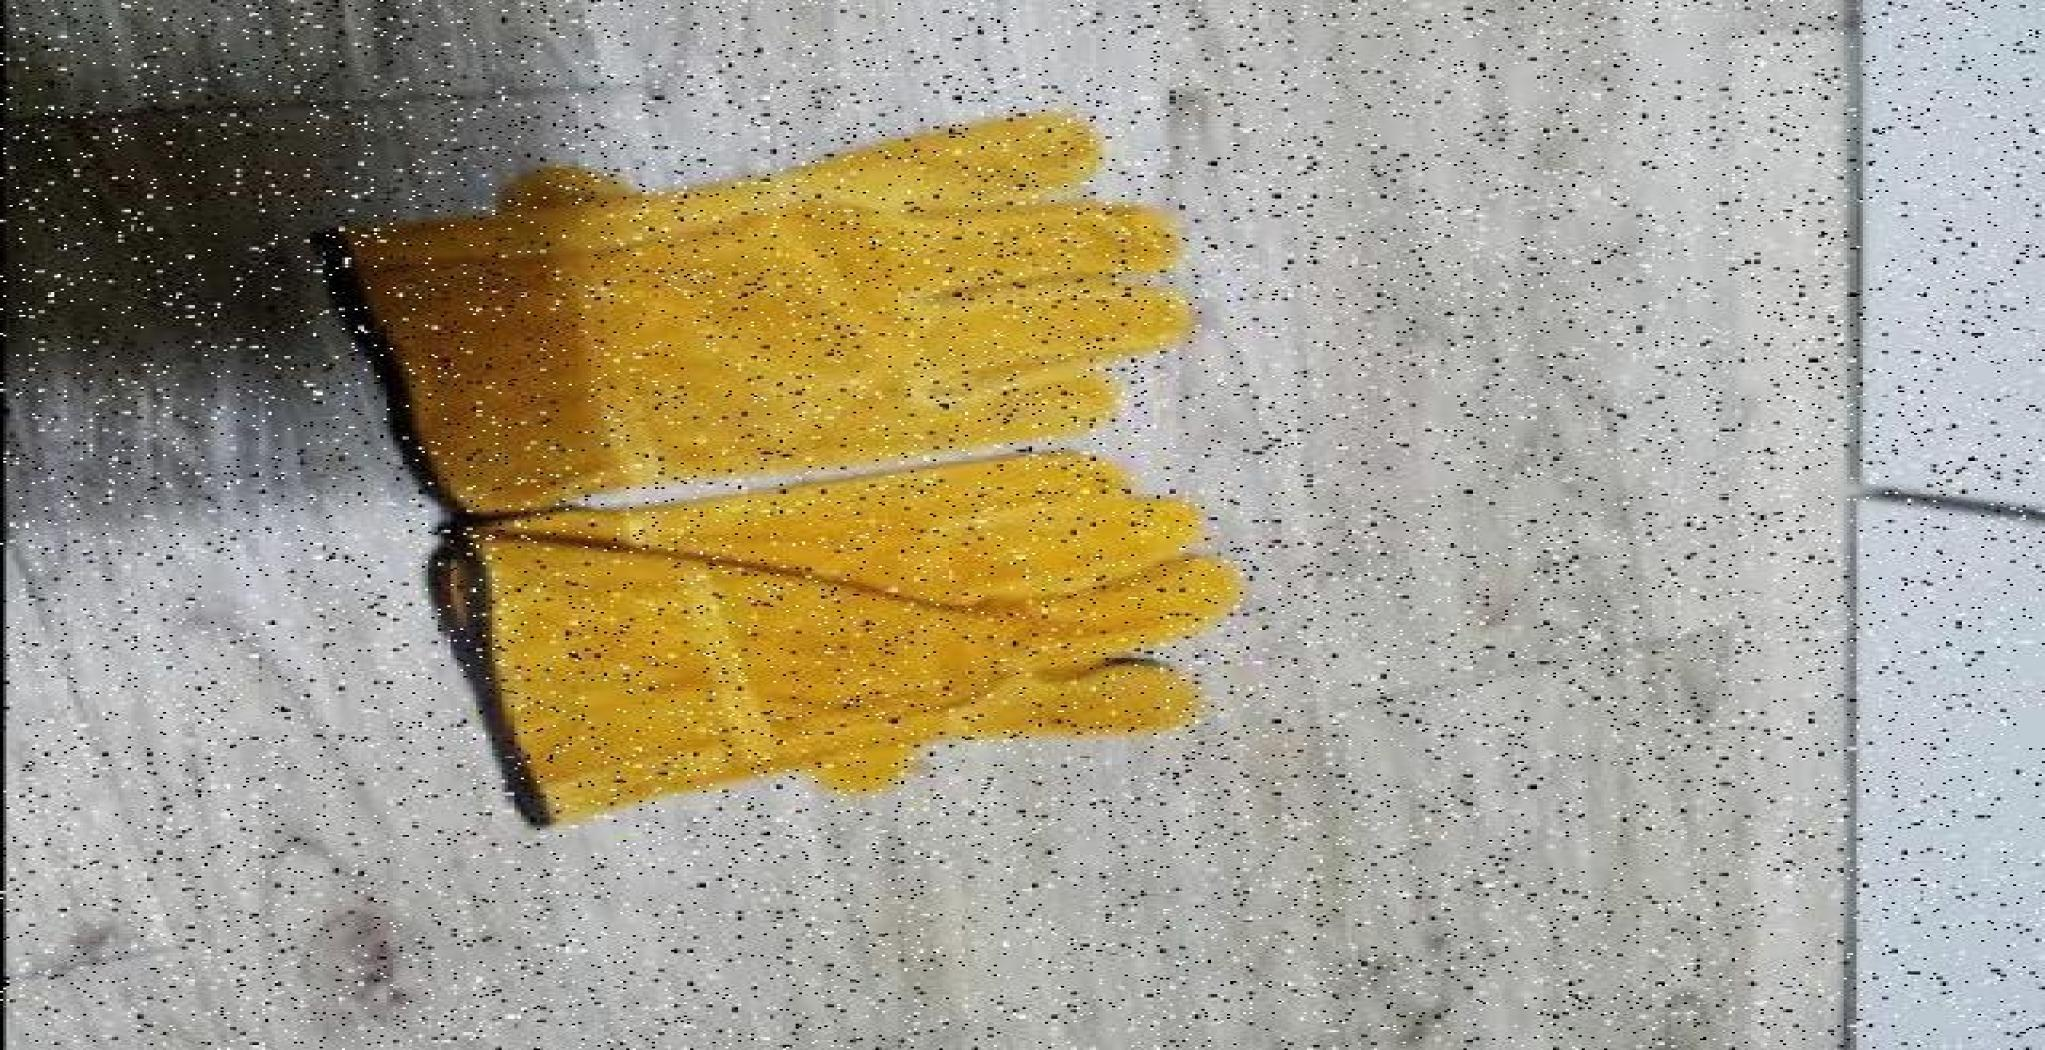gloved: (309, 108, 1245, 829)
